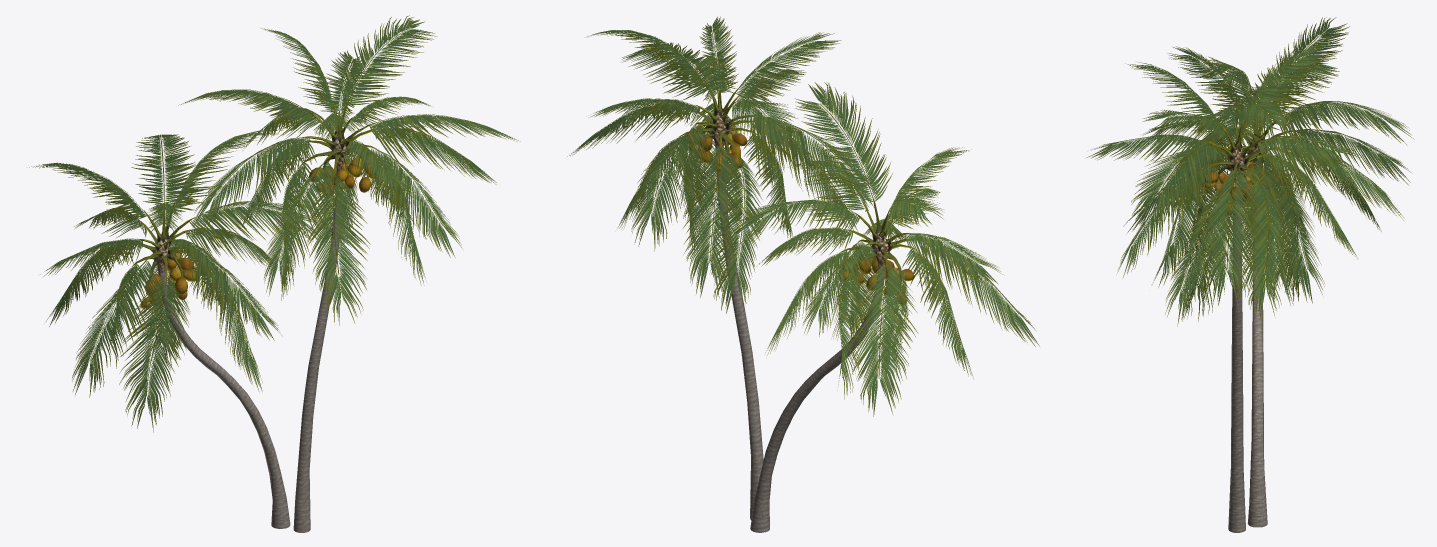
The model's file is palmera_coco.glb.
The picture shows the model from 3 angles, left to right: view 1: azimuth 30°, elevation 25°; view 2: azimuth 150°, elevation 25°; view 3: azimuth 270°, elevation 25°; orthographic projection. The views are drawn at different scales.
Visible parts, largest first — view 1: Tree_2_Tree_2Mat_0, Tree_0_Tree_0Mat_0, Tree_3_Tree_3Mat_0, Tree_4_Tree_4Mat_0; view 2: Tree_2_Tree_2Mat_0, Tree_0_Tree_0Mat_0, Tree_3_Tree_3Mat_0, Tree_4_Tree_4Mat_0, Tree_1_Tree_1Mat_0; view 3: Tree_2_Tree_2Mat_0, Tree_0_Tree_0Mat_0, Tree_3_Tree_3Mat_0, Tree_4_Tree_4Mat_0.
Part boxes in pixels (bbox=[...]): Tree_2_Tree_2Mat_0: bbox=[29, 15, 520, 432]; Tree_0_Tree_0Mat_0: bbox=[158, 170, 342, 532]; Tree_3_Tree_3Mat_0: bbox=[132, 98, 379, 295]; Tree_4_Tree_4Mat_0: bbox=[140, 153, 375, 308]; Tree_2_Tree_2Mat_0: bbox=[567, 16, 1039, 416]; Tree_0_Tree_0Mat_0: bbox=[716, 152, 885, 532]; Tree_3_Tree_3Mat_0: bbox=[679, 80, 924, 291]; Tree_4_Tree_4Mat_0: bbox=[685, 126, 914, 304]; Tree_1_Tree_1Mat_0: bbox=[712, 112, 888, 270]; Tree_2_Tree_2Mat_0: bbox=[1085, 17, 1414, 326]; Tree_0_Tree_0Mat_0: bbox=[1228, 201, 1267, 532]; Tree_3_Tree_3Mat_0: bbox=[1205, 105, 1296, 202]; Tree_4_Tree_4Mat_0: bbox=[1202, 162, 1283, 217].
Size of the model in its own units: 9.02 by 9 by 5.76.
5 materials, 5 textured.
